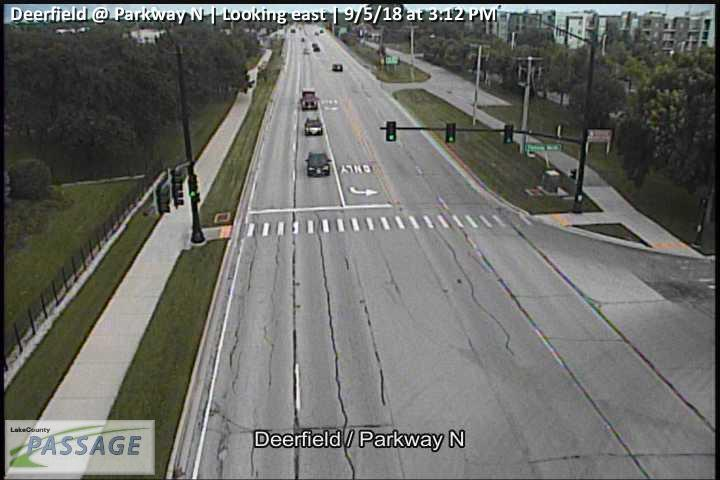Sedan: (305, 150, 332, 176), (304, 117, 322, 135)
Truck: (300, 87, 319, 110)
